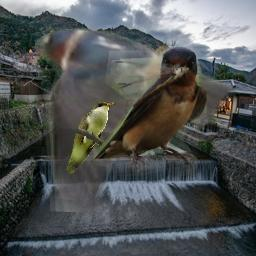Cuckoo: (66, 101, 116, 174)
Swallow: (35, 20, 237, 212), (93, 46, 207, 176)
